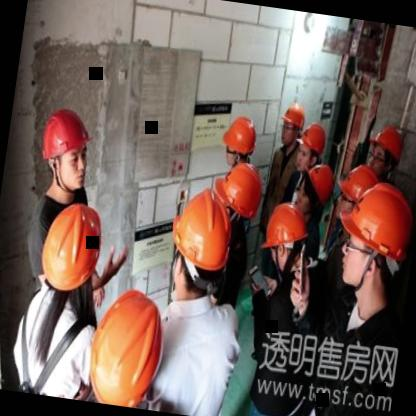helmet: (79, 286, 172, 411), (335, 175, 416, 297), (162, 184, 235, 302), (34, 197, 110, 300), (33, 105, 100, 195), (206, 158, 270, 230), (260, 198, 310, 274), (334, 158, 380, 230), (293, 158, 338, 218), (366, 117, 408, 181), (219, 112, 262, 172), (293, 118, 327, 172), (274, 102, 308, 154)
